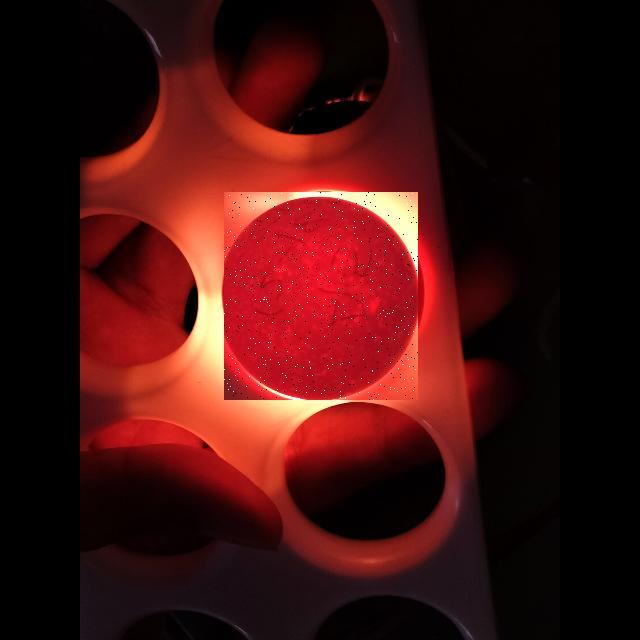B - Fair: (224, 192, 418, 400)
